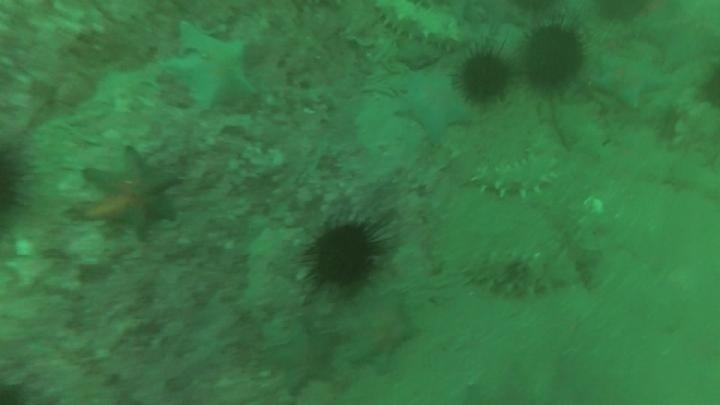echinus: (301, 216, 388, 293), (519, 21, 588, 93), (452, 46, 514, 107), (0, 139, 34, 226), (591, 1, 653, 27), (693, 62, 720, 113)
holothurian: (469, 126, 564, 202), (457, 245, 582, 301), (371, 1, 466, 52)
starfish: (79, 144, 184, 243), (160, 20, 260, 114), (337, 292, 422, 374), (393, 70, 476, 144), (267, 319, 343, 395), (635, 3, 718, 71), (590, 50, 669, 111)
